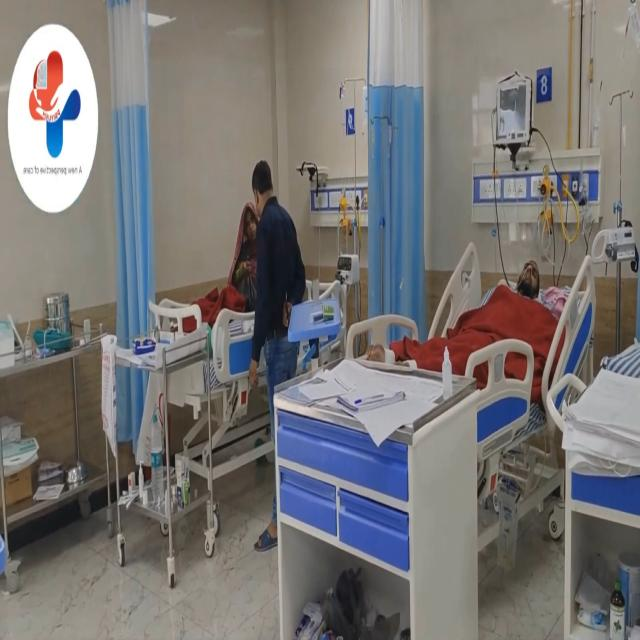Family-Member: (234, 158, 300, 500)
Patient: (179, 193, 254, 344), (478, 243, 554, 357)
